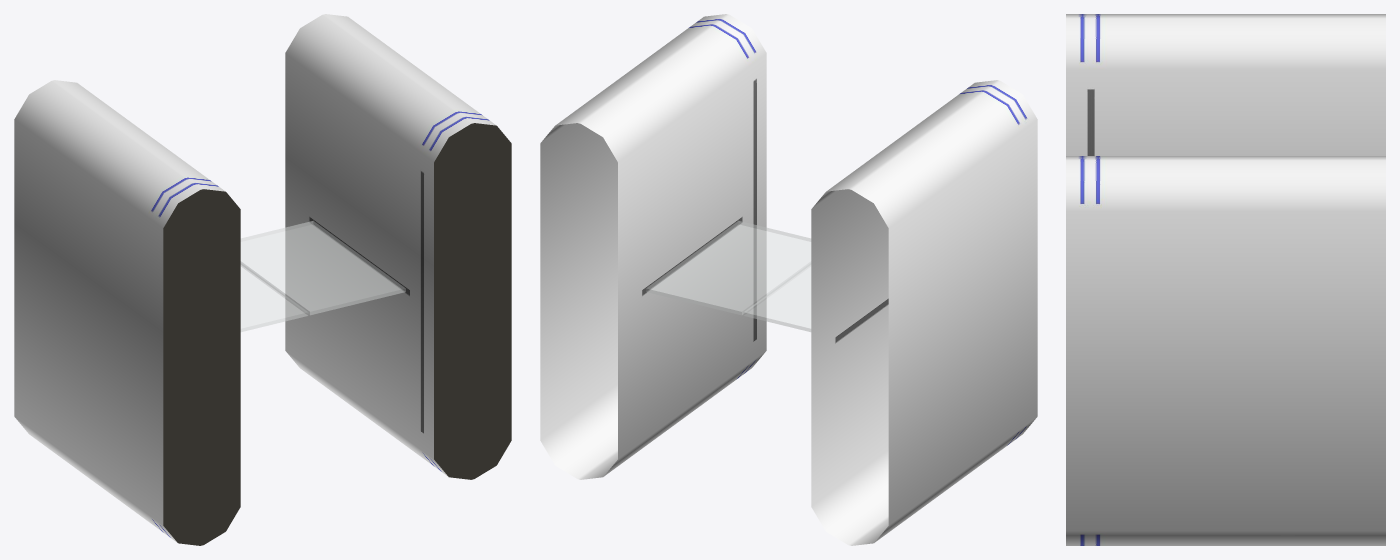
3 views of the same model, side by side, from view 1: azimuth 30°, elevation 25°; view 2: azimuth 150°, elevation 25°; view 3: azimuth 270°, elevation 25° (orthographic). The views are drawn at different scales.
Parts seen in each view (by area): view 1: 01, 透明; view 2: 01, 透明; view 3: 01.
Part boxes in pixels (x1,y1,x2,y2): 01: (14,14,511,545); 透明: (240,221,405,331); 01: (540,14,1037,545); 透明: (646,221,811,331); 01: (1066,14,1385,545).
Size of the model in its own units: 0.9949 by 0.9717 by 0.7368.
2 materials, 1 textured.
